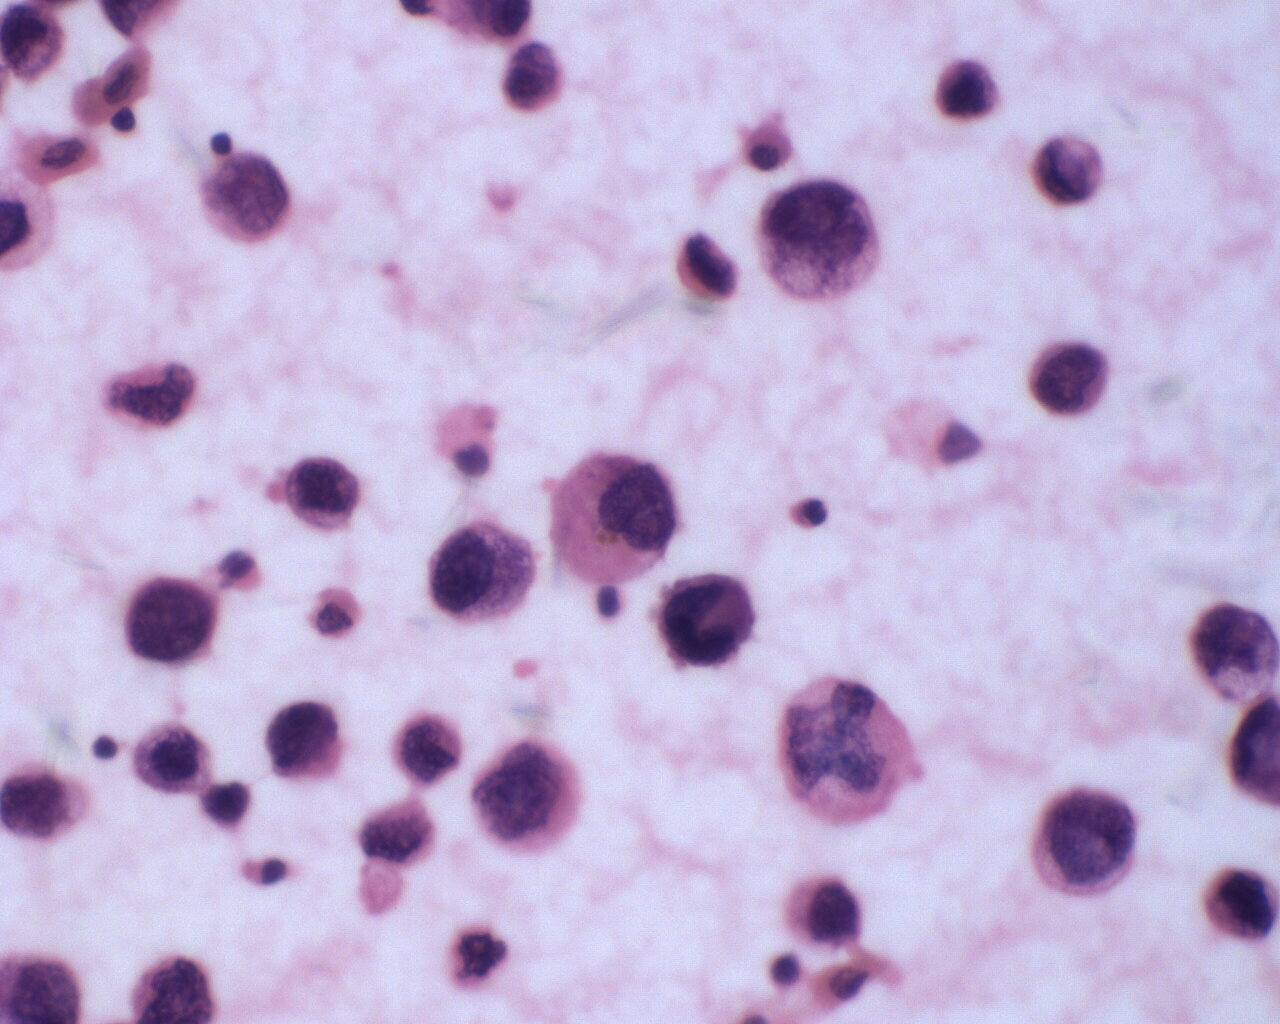ab: (775, 665, 920, 828), (545, 442, 676, 596), (746, 172, 888, 312), (1027, 786, 1140, 906), (422, 517, 539, 629), (652, 571, 757, 675), (778, 865, 870, 952), (275, 453, 367, 539), (1028, 338, 1116, 419), (1197, 861, 1280, 944), (129, 720, 212, 800), (928, 53, 1003, 127)
meso: (739, 119, 795, 174)
